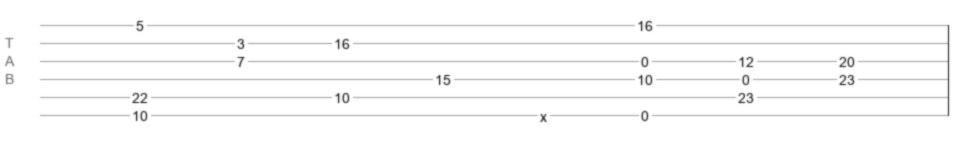0: (641, 54, 649, 64), (641, 108, 649, 118), (742, 72, 750, 82)
10: (132, 108, 148, 118), (334, 90, 350, 100), (637, 72, 653, 82)
12: (738, 54, 754, 64)
15: (435, 72, 451, 82)
16: (334, 36, 350, 46), (637, 18, 653, 28)
20: (839, 54, 855, 64)
22: (132, 90, 148, 100)
23: (738, 90, 754, 100), (839, 72, 855, 82)
3: (237, 36, 245, 46)
5: (136, 18, 144, 28)
7: (237, 54, 245, 64)
x: (540, 109, 547, 117)
